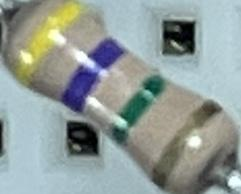Blue: (52, 29, 130, 115)
Green: (105, 71, 177, 151)
Side-Silver: (145, 95, 226, 190)
Yellow: (7, 1, 94, 92)
